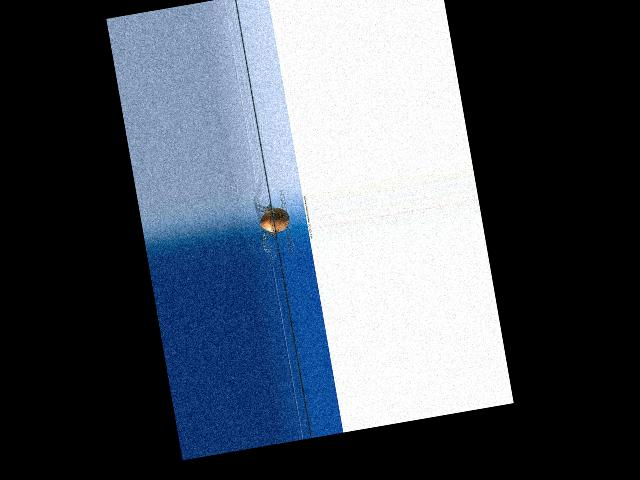egg: (258, 205, 291, 234)
